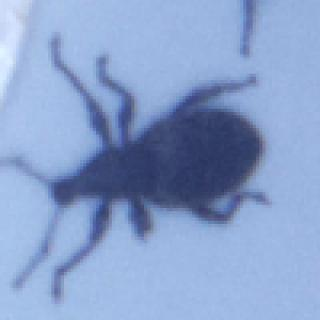bvw: (7, 33, 270, 300)
